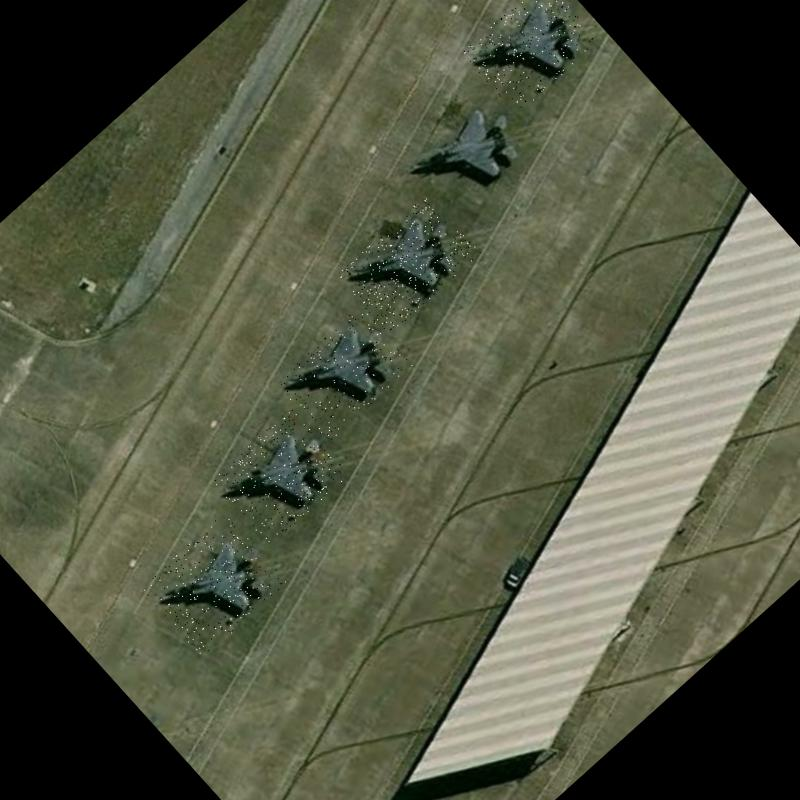A13: (139, 511, 288, 658), (393, 82, 542, 228), (336, 192, 480, 334), (274, 303, 414, 442), (210, 407, 350, 545), (460, 0, 599, 114)
